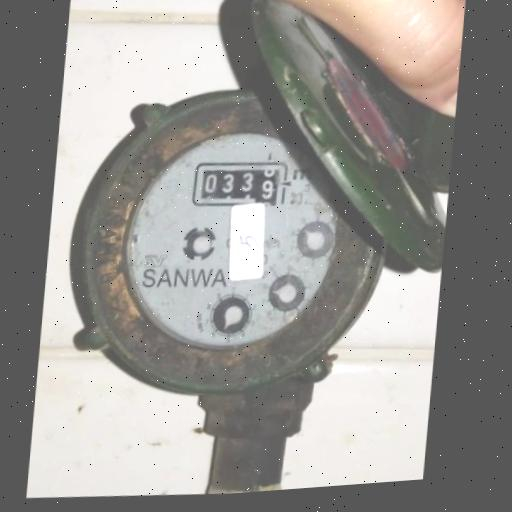0: (200, 170, 219, 200)
3: (236, 168, 259, 200), (216, 169, 239, 200)
9: (254, 167, 280, 208)
border_water_meter_number: (189, 155, 286, 212)
